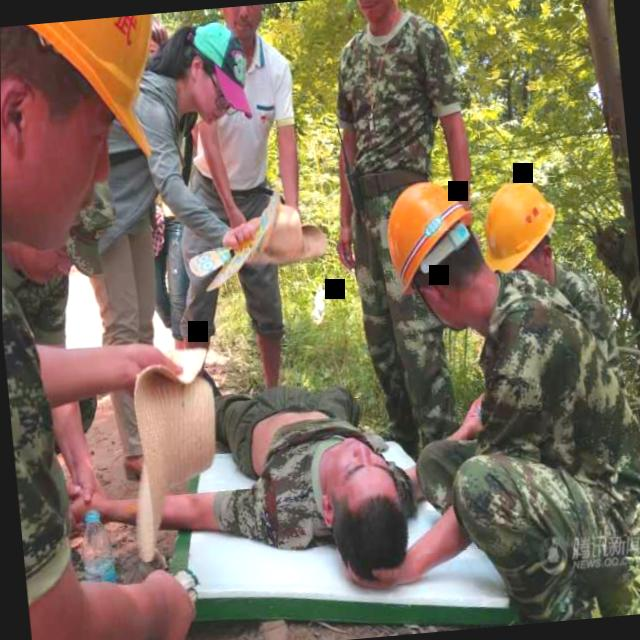Fall-Detected: (59, 336, 447, 584)
